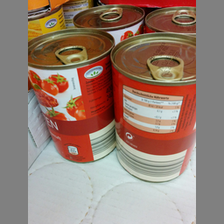tomato_sauce: (109, 33, 195, 184), (29, 28, 115, 165)
